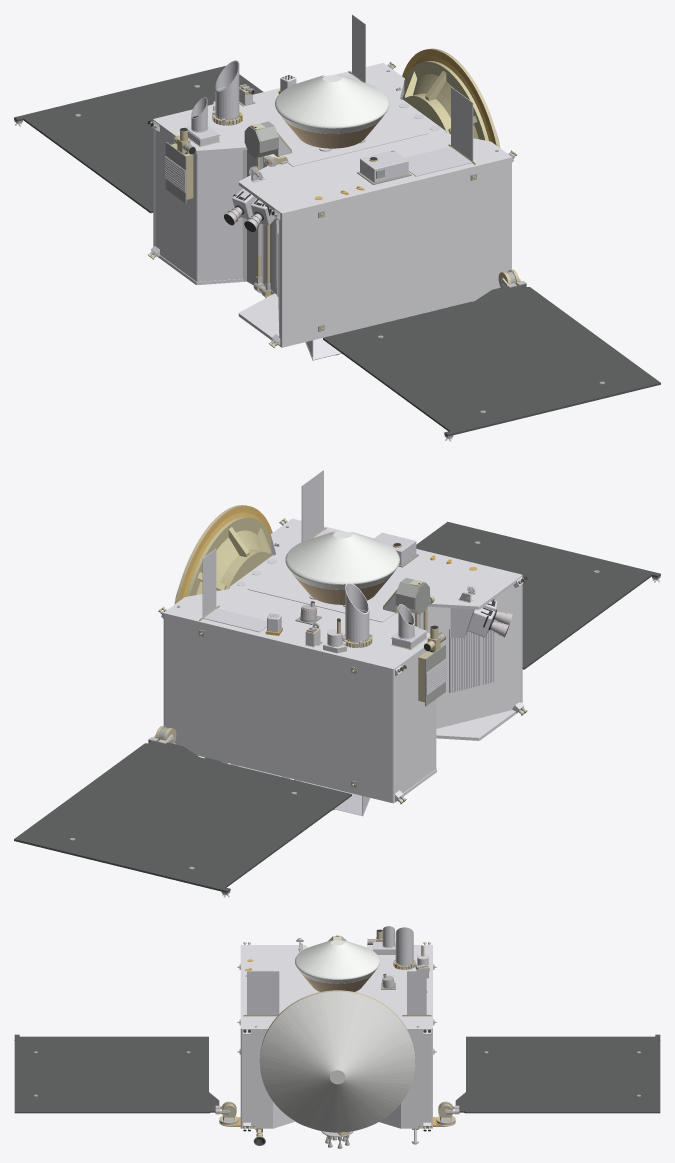
The model's file is space-osiris-rex.glb.
3 renders of one model, top to bottom at view 1: azimuth 30°, elevation 25°; view 2: azimuth 150°, elevation 25°; view 3: azimuth 270°, elevation 25°, orthographic. The views are drawn at different scales.
Parts seen in each view (by area): view 1: Main Layer; view 2: Main Layer; view 3: Main Layer.
Part boxes in pixels (x1,y1,x2,y2): Main Layer: (14, 14, 660, 441); Main Layer: (14, 470, 660, 897); Main Layer: (14, 926, 660, 1148).
Size of the model in its own units: 13.72 by 12.01 by 34.65.
Materials: 1 (1 with a texture image).
